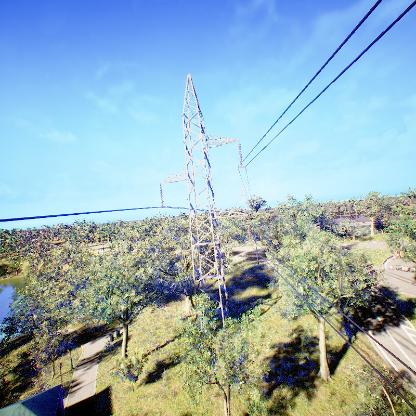tower: (154, 69, 250, 349)
